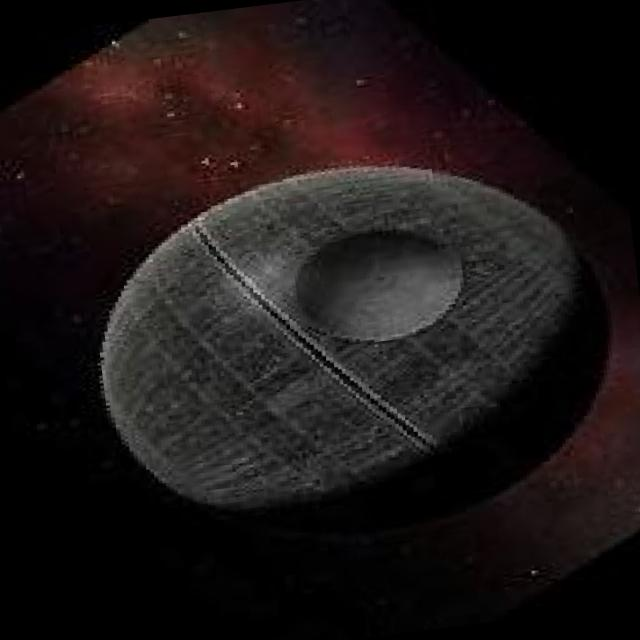Death Star: (69, 117, 626, 578)
